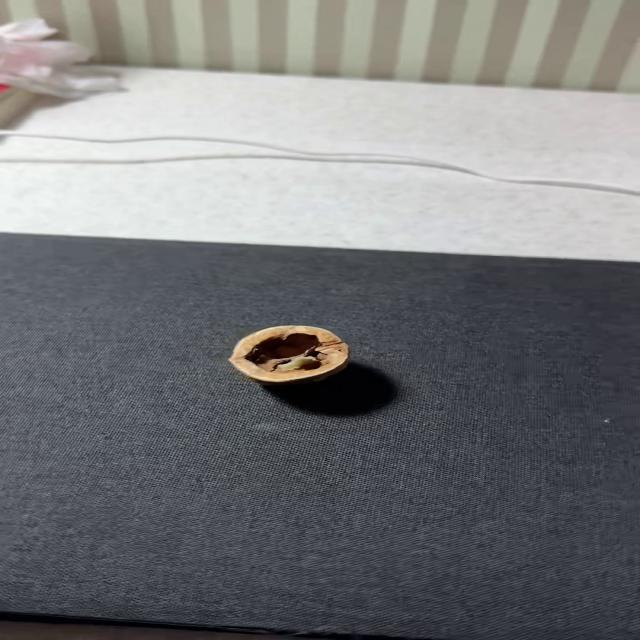nuts-bad0.5: (229, 326, 349, 386)
